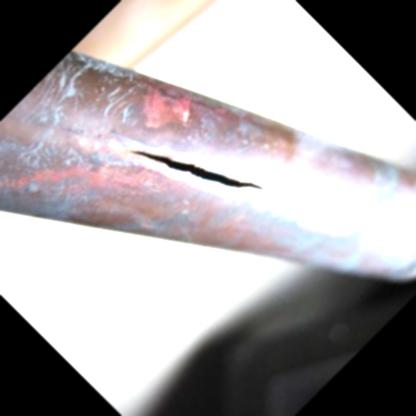burst: (128, 149, 273, 197)
